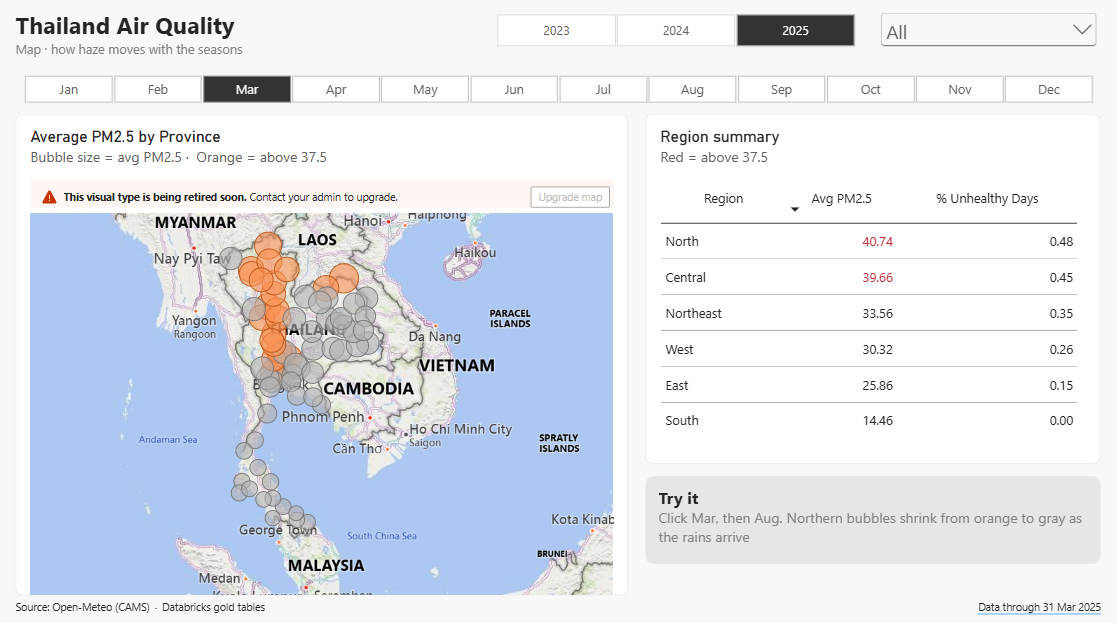

This screenshot's page, from the dashboard's own definition file:
{"tool":"powerbi","page":{"name":"Map","canvas":[1280,720],"ordinal":2},"visuals":[{"type":"textbox","box":[20,15,620,60],"z":0},{"type":"slicer","fields":{"Values":["dim_date.year"]},"box":[550,20,448,40],"z":1000},{"type":"slicer","fields":{"Values":["dim_province.region"]},"box":[1004,16,256,48],"z":2000},{"type":"slicer","fields":{"Values":["dim_date.month_name"]},"box":[10,90,1260,35],"z":3000},{"type":"map","title":"Average PM2.5 by Province","fields":{"Category":["dim_province.province"],"Size":["fact_air_daily.Avg PM2.5"],"X":["Avg(dim_province.longitude)"],"Y":["Avg(dim_province.latitude)"]},"box":[20,135,700,550],"z":4000},{"type":"tableEx","title":"Region summary","fields":{"Values":["dim_province.region","fact_air_daily.Avg PM2.5","fact_air_daily.% Unhealthy Days"]},"box":[740,135,520,400],"z":5000},{"type":"textbox","box":[740,550,520,100],"z":6000},{"type":"textbox","box":[20,688,832,32],"z":7000},{"type":"textbox","box":[948,688,312,32],"z":8000}]}

Visuals, with their boxes in screenshot pixels (x1, y1, x2, y2), scaled from the page's 1280x720 canvas onto the 1117x623 screenshot:
textbox: <region>17, 13, 558, 65</region>
slicer - dim_date.year: <region>480, 17, 871, 52</region>
slicer - dim_province.region: <region>876, 14, 1100, 55</region>
slicer - dim_date.month_name: <region>9, 78, 1108, 108</region>
"Average PM2.5 by Province" map: <region>17, 117, 628, 593</region>
"Region summary" tableEx: <region>646, 117, 1100, 463</region>
textbox: <region>646, 476, 1100, 562</region>
textbox: <region>17, 595, 744, 622</region>
textbox: <region>827, 595, 1100, 622</region>
